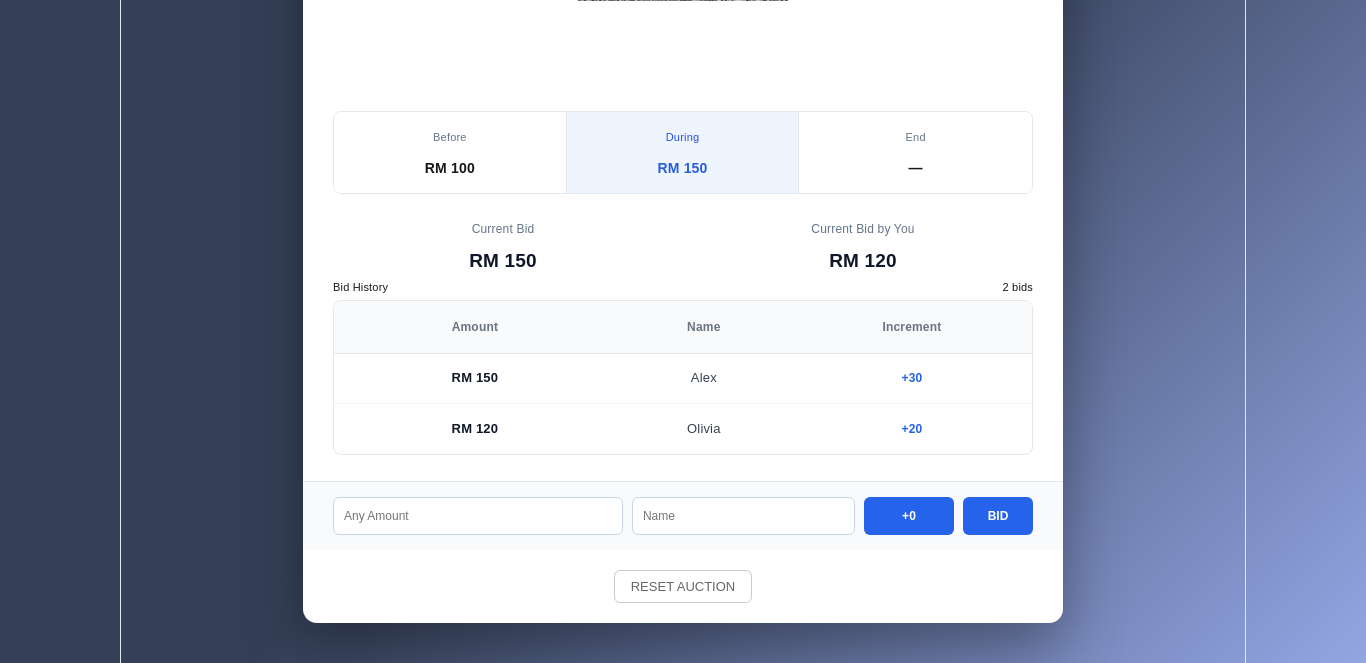
Test: Bidding App › disables the bid button when bid is not higher than current price
This screenshot has width=1366, height=663.
(page scrolled)
Type "Olivia" into the field with placeholder "Name".
click(744, 516); type("Olivia")  # box [632,497,855,535]
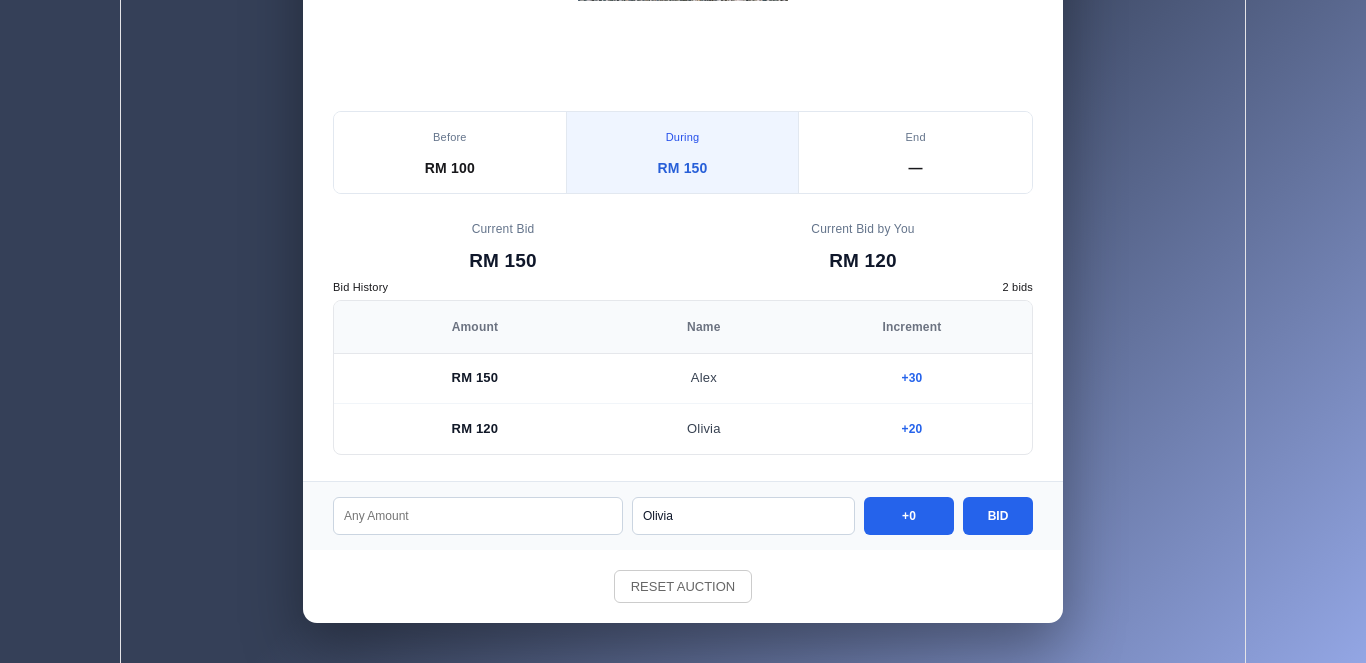
Type "150" into the number field with placeholder "Any Amount".
click(478, 516); type("150")  # box [333,497,623,535]
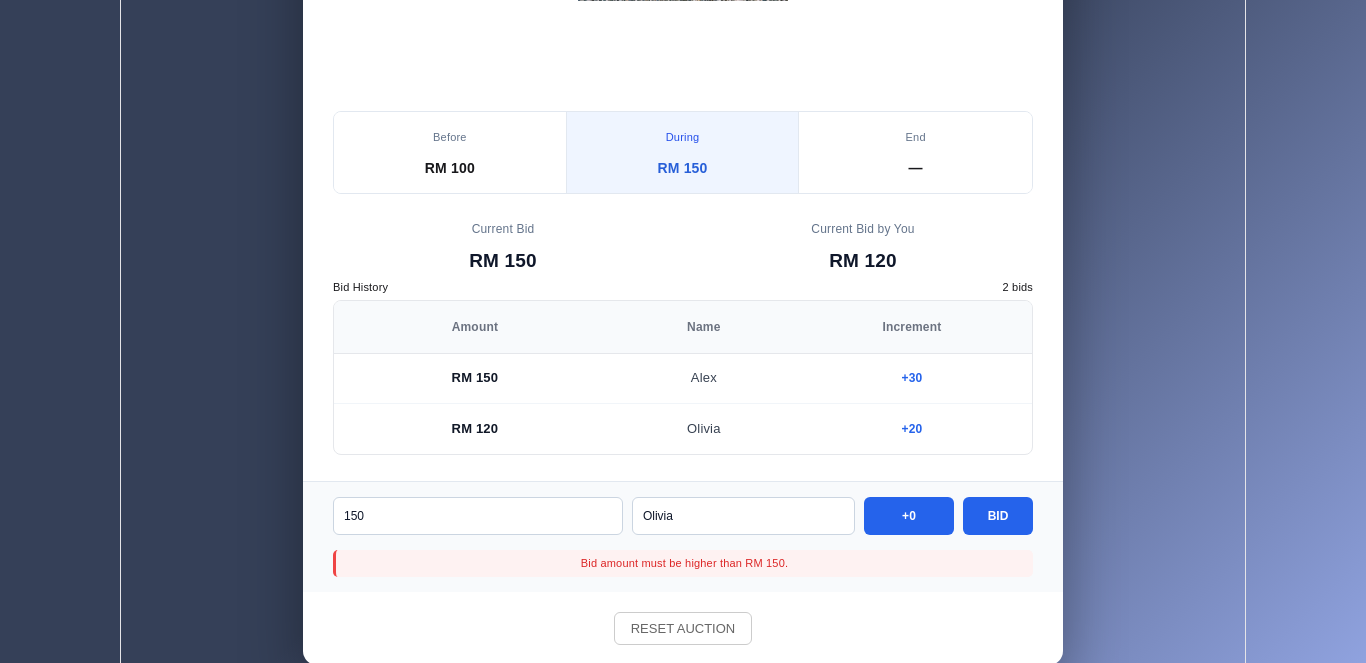
Expected: the button "BID" is disabled, [963,497,1033,535]
Expected: the text "Bid amount must be higher than RM 150." is shown, [333,550,1033,577]
